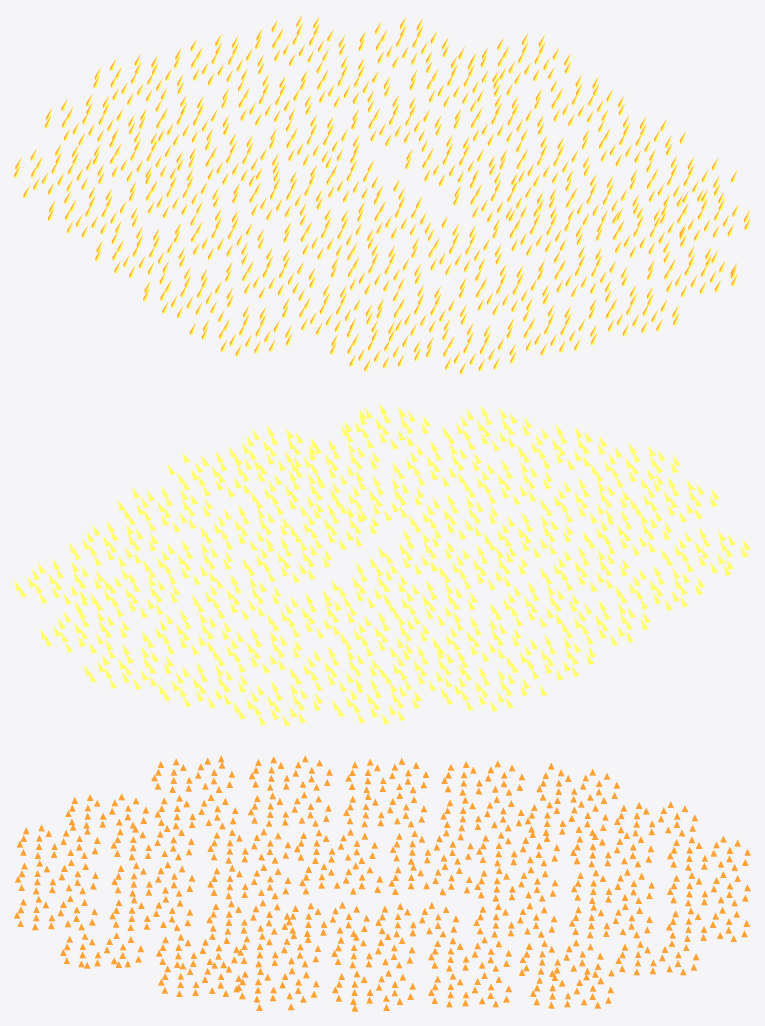
File: Grass.001 1.fbx
The picture shows the model from 3 angles, top to bottom: view 1: azimuth 30°, elevation 25°; view 2: azimuth 150°, elevation 25°; view 3: azimuth 270°, elevation 25°; orthographic projection. The views are drawn at different scales.
Parts seen in each view (by area): view 1: Grass.001; view 2: Grass.001; view 3: Grass.001.
Part boxes in pixels (<box>): Grass.001: <box>14,15,750,374</box>; Grass.001: <box>14,403,750,726</box>; Grass.001: <box>14,755,750,1011</box>.
Bounding box in the file's own units: 71.86 × 1.23 × 88.64.
